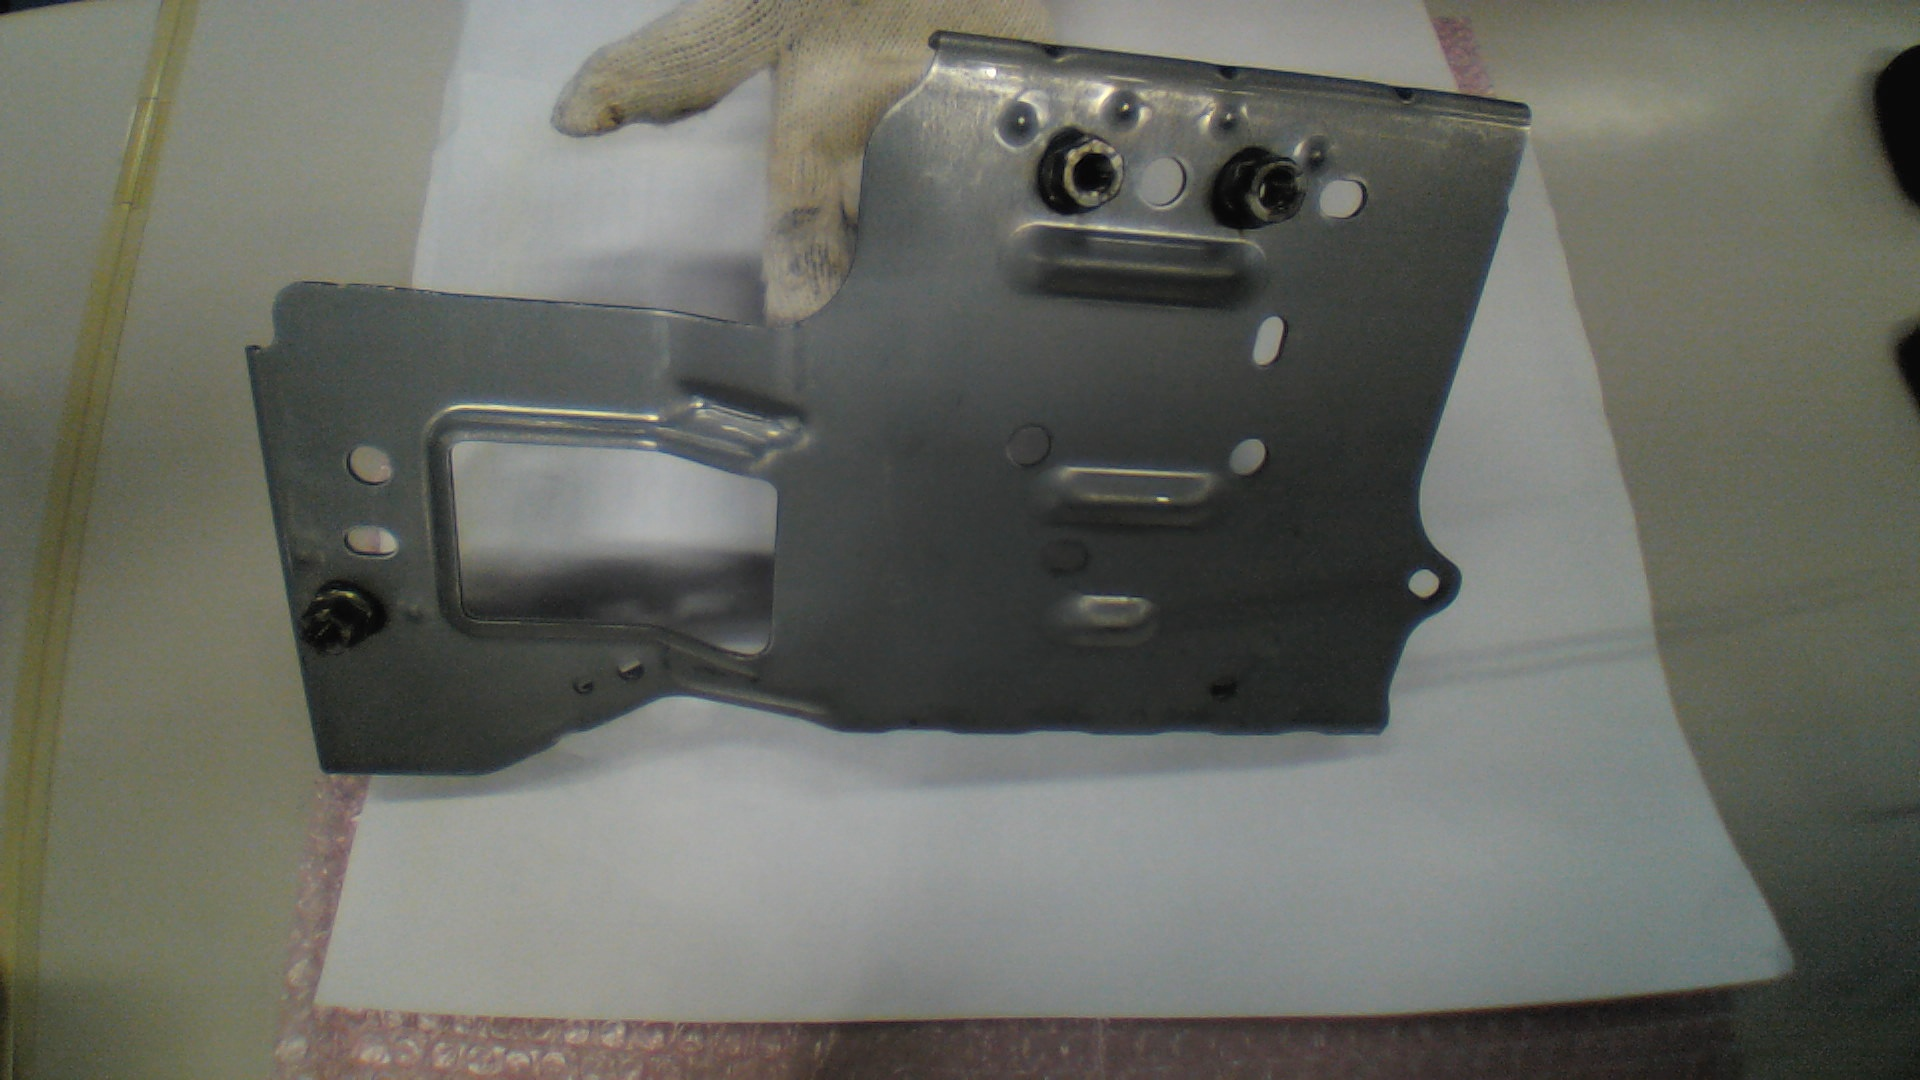dog: (1215, 149, 1309, 231), (1036, 131, 1122, 215), (303, 579, 388, 659)
